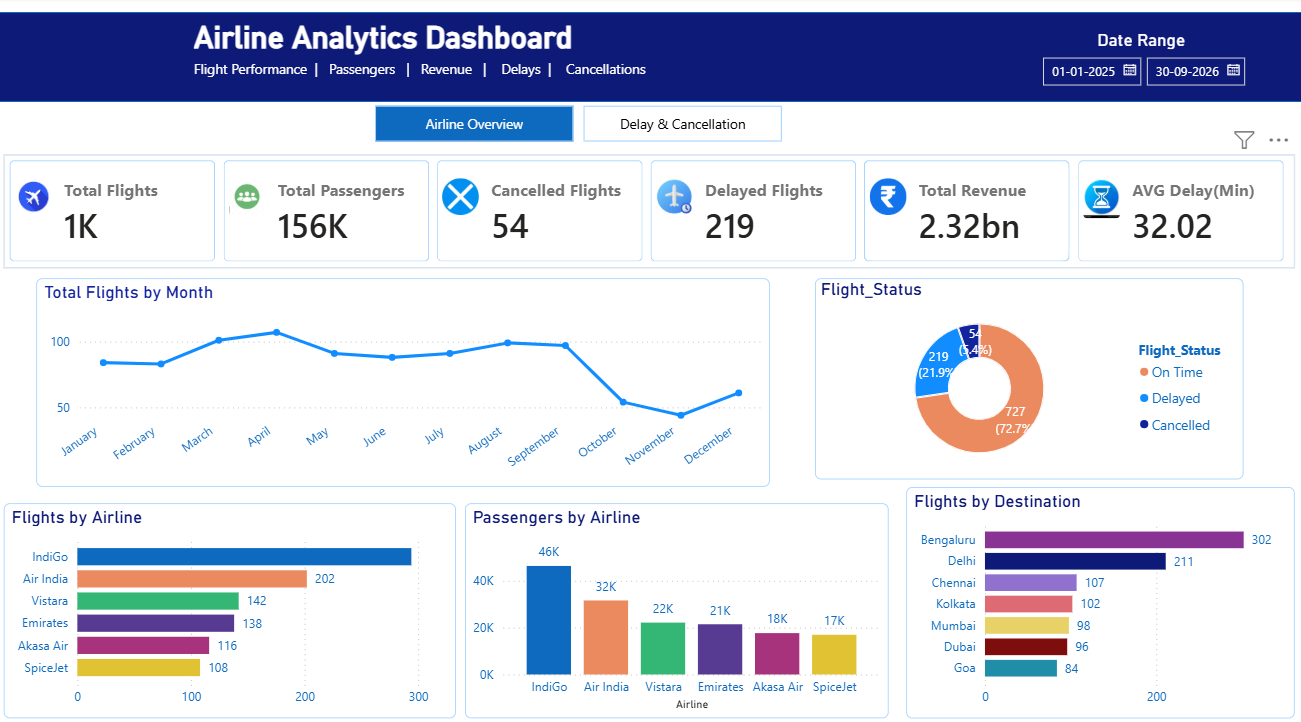

This screenshot's page, from the dashboard's own definition file:
{"tool":"powerbi","page":{"name":"Airline Overview","canvas":[1280,720],"ordinal":0},"visuals":[{"type":"shape","box":[0,14.7,1280.3,88],"z":0},{"type":"cardVisual","fields":{"Data":["airline_analytics airline_data.Total Flights","airline_analytics airline_data.Total Passengers","airline_analytics airline_data.Cancelled Flights","airline_analytics airline_data.Delayed Flights","airline_analytics airline_data.Total Revenue","airline_analytics airline_data.AVG Delay"]},"box":[8.6,154.1,1263.2,111.3],"z":1000},{"type":"textbox","title":"Airline Analytics Dashboard","box":[189.5,22,462.2,63.6],"z":2000},{"type":"barChart","fields":{"Y":["airline_analytics airline_data.Total Flights"],"Category":["airline_analytics airline_data.Airline"]},"box":[8.6,495.2,442.7,210.3],"z":3000},{"type":"donutChart","title":" Flight_Status","fields":{"Y":["CountNonNull(airline_analytics airline_data.Flight_Id)"],"Category":["airline_analytics airline_data.Flight_Status"]},"box":[802.2,275.1,419.4,197],"z":4000},{"type":"columnChart","fields":{"Category":["airline_analytics airline_data.Airline"],"Y":["Sum(airline_analytics airline_data.Passenger)"]},"box":[459.8,495.2,414.5,210.3],"z":5000},{"type":"barChart","fields":{"Y":["airline_analytics airline_data.Total Flights"],"Category":["airline_analytics airline_data.Destination"]},"box":[891.4,479.4,380.3,226.2],"z":6000},{"type":"lineChart","fields":{"Category":["airline_analytics airline_data.Date.Variation.Date Hierarchy.Month"],"Y":["airline_analytics airline_data.Total Flights"]},"box":[40.4,275.1,717.8,204.2],"z":7000},{"type":"pageNavigator","box":[371.7,106.4,399.9,35.5],"z":8000},{"type":"slicer","fields":{"Values":["airline_analytics airline_data.Date"]},"box":[1012.5,48.9,232.3,53.8],"z":9000},{"type":"textbox","title":"Date Range","box":[1073.6,31.8,108.8,22],"z":10000}]}

Visuals, with their boxes in screenshot pixels (x1, y1, x2, y2), scaled from the page's 1280x720 canvas onto the 1301x722 screenshot:
shape: [0, 15, 1300, 103]
cardVisual - airline_analytics airline_data.Total Flights x airline_analytics airline_data.Total Passengers: [9, 155, 1293, 266]
"Airline Analytics Dashboard" textbox: [193, 22, 662, 86]
barChart - airline_analytics airline_data.Total Flights x airline_analytics airline_data.Airline: [9, 497, 459, 707]
" Flight_Status" donutChart: [815, 276, 1242, 473]
columnChart - airline_analytics airline_data.Airline x Sum(airline_analytics airline_data.Passenger): [467, 497, 889, 707]
barChart - airline_analytics airline_data.Total Flights x airline_analytics airline_data.Destination: [906, 481, 1293, 708]
lineChart - airline_analytics airline_data.Date.Variation.Date Hierarchy.Month x airline_analytics airline_data.Total Flights: [41, 276, 771, 481]
pageNavigator: [378, 107, 784, 142]
slicer - airline_analytics airline_data.Date: [1029, 49, 1265, 103]
"Date Range" textbox: [1091, 32, 1202, 54]
